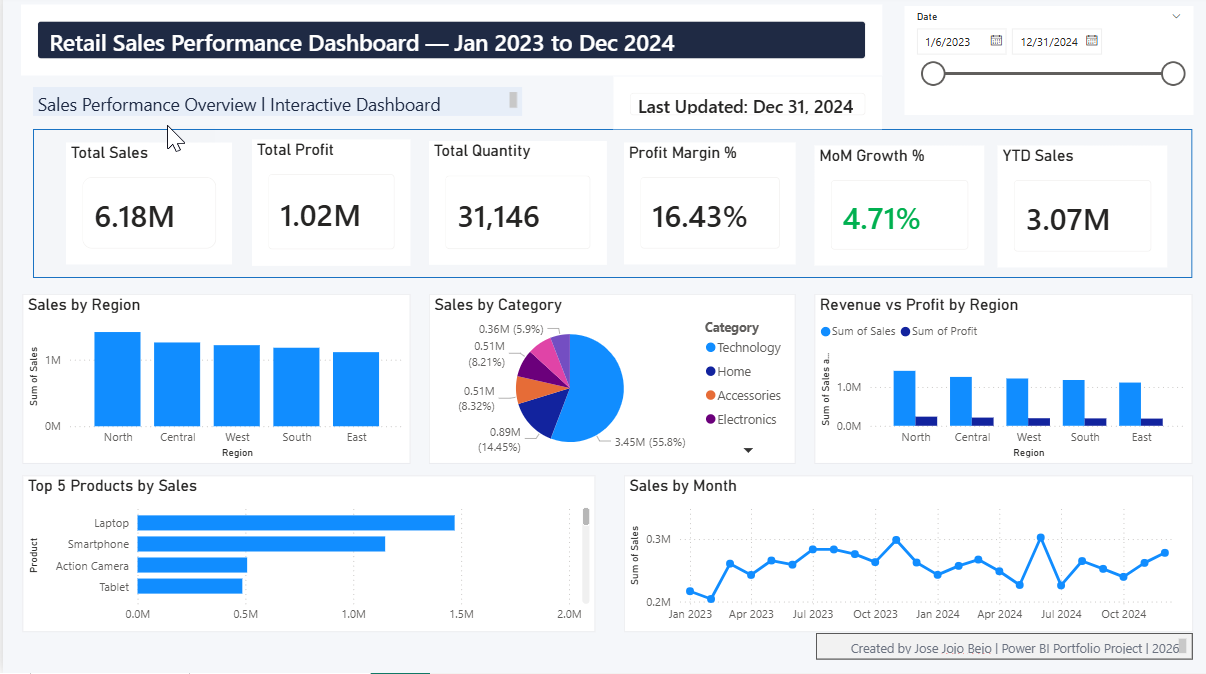

The dashboard page shown, as its layout file describes it:
{"tool":"powerbi","page":{"name":"Page 1","canvas":[1280,720],"ordinal":0},"visuals":[{"type":"shape","box":[32.4,143.8,1229.4,158],"z":0},{"type":"cardVisual","title":"Total Sales","fields":{"Data":["Sum(sales_data.Sales)"]},"box":[66.8,157.2,176.2,129.6],"z":1000},{"type":"clusteredColumnChart","title":"Sales by Region","fields":{"Category":["sales_data.Region"],"Y":["Sum(sales_data.Sales)"]},"box":[20.3,318,411.1,180.3],"z":2000},{"type":"cardVisual","title":"Total Profit","fields":{"Data":["Sum(sales_data.Profit)"]},"box":[263.3,153.9,168.1,133.7],"z":3000},{"type":"pieChart","title":"Sales by Category","fields":{"Category":["sales_data.Category"],"Y":["Sum(sales_data.Sales)"]},"box":[451.6,318,388.9,180.3],"z":4000},{"type":"cardVisual","title":"Total Quantity","fields":{"Data":["Sum(sales_data.Quantity)"]},"box":[451.6,155.9,188.4,131.6],"z":5000},{"type":"slicer","fields":{"Values":["sales_data.Date"]},"box":[955.9,12.2,305.8,115.4],"z":6000},{"type":"cardVisual","title":"Profit Margin %","fields":{"Data":["DateTable.Profit Margin %"]},"box":[658.2,158,182.3,129.6],"z":7000},{"type":"lineChart","title":"Sales by Month","fields":{"Y":["Sum(sales_data.Sales)"],"Category":["DateTable.Date.Variation.Date Hierarchy.Year","DateTable.Date.Variation.Date Hierarchy.Month"]},"box":[658.2,510.4,603.5,166.1],"z":8000},{"type":"cardVisual","title":"MoM Growth %","fields":{"Data":["DateTable.MoM Growth %"]},"box":[860.8,160,180.3,127.6],"z":9000},{"type":"barChart","title":"Top 5 Products by Sales","fields":{"Category":["sales_data.Product"],"Y":["Sum(sales_data.Sales)"]},"box":[20.3,510.4,607.6,166.1],"z":10000},{"type":"cardVisual","title":"YTD Sales","fields":{"Data":["DateTable.YTD Sales"]},"box":[1055.2,160,180.3,129.6],"z":11000},{"type":"clusteredColumnChart","title":"Revenue vs Profit by Region","fields":{"Category":["sales_data.Region"],"Y":["Sum(sales_data.Sales)","Sum(sales_data.Profit)"]},"box":[860.5,318.1,400.8,179.7],"z":12000},{"type":"cardVisual","fields":{"Data":["DateTable.Last Updated Text"]},"box":[647.4,87.5,284.7,55.7],"z":13000},{"type":"cardVisual","fields":{"Data":["DateTable.Dynamic Title"]},"box":[19.9,11.9,913.4,75.5],"z":14000},{"type":"textbox","box":[32.4,99.2,518.5,30.4],"z":15000},{"type":"textbox","box":[861.7,677.1,399.1,27.8],"z":16000}]}

Visuals, with their boxes in screenshot pixels (x1, y1, x2, y2), scaled from the page's 1280x720 canvas onto the 1206x674 screenshot:
shape: <region>31, 135, 1189, 283</region>
"Total Sales" cardVisual: <region>63, 147, 229, 268</region>
"Sales by Region" clusteredColumnChart: <region>19, 298, 406, 466</region>
"Total Profit" cardVisual: <region>248, 144, 406, 269</region>
"Sales by Category" pieChart: <region>425, 298, 792, 466</region>
"Total Quantity" cardVisual: <region>425, 146, 603, 269</region>
slicer - sales_data.Date: <region>901, 11, 1189, 119</region>
"Profit Margin %" cardVisual: <region>620, 148, 792, 269</region>
"Sales by Month" lineChart: <region>620, 478, 1189, 633</region>
"MoM Growth %" cardVisual: <region>811, 150, 981, 269</region>
"Top 5 Products by Sales" barChart: <region>19, 478, 592, 633</region>
"YTD Sales" cardVisual: <region>994, 150, 1164, 271</region>
"Revenue vs Profit by Region" clusteredColumnChart: <region>811, 298, 1188, 466</region>
cardVisual - DateTable.Last Updated Text: <region>610, 82, 878, 134</region>
cardVisual - DateTable.Dynamic Title: <region>19, 11, 879, 82</region>
textbox: <region>31, 93, 519, 121</region>
textbox: <region>812, 634, 1188, 660</region>
